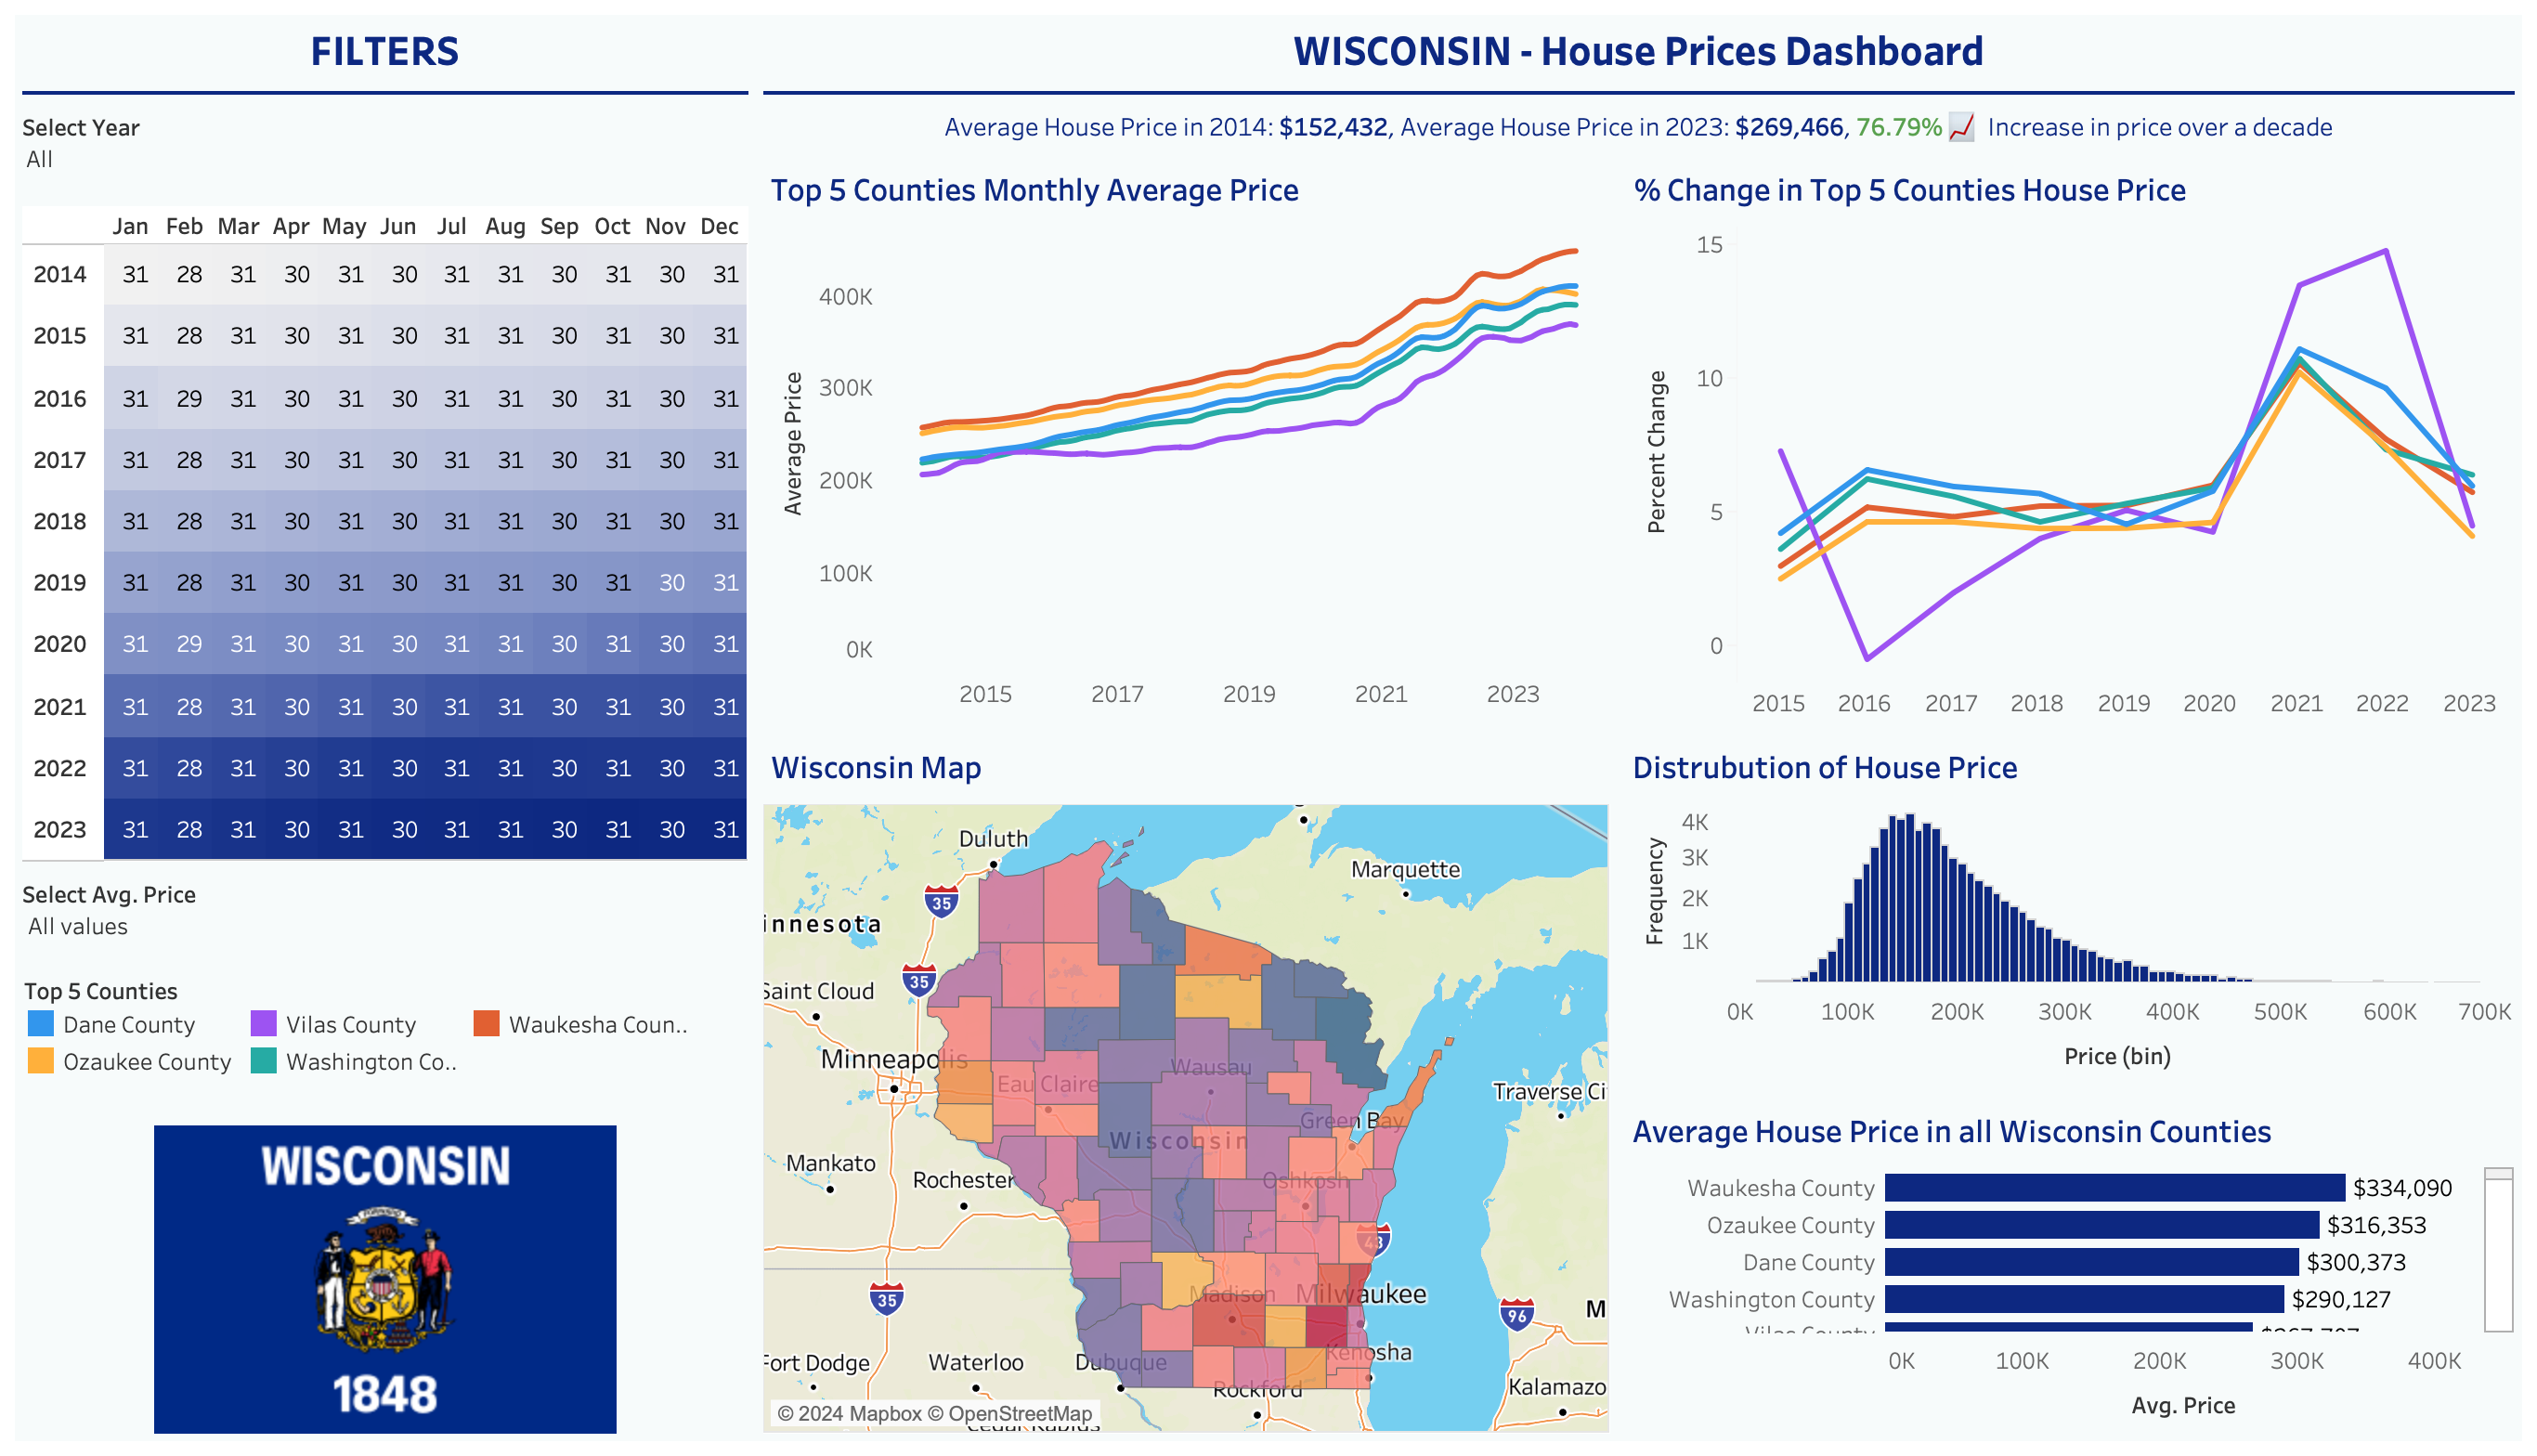

The dashboard page shown, as its layout file describes it:
{"tool":"tableau","page":{"name":"Wisconsin Housing Price - Dashboard","canvas":[1000,1000],"units":"permille","ordinal":0},"visuals":[{"type":"text","box":[5.9,10.2,292.4,47.2]},{"type":"text","box":[298.3,10.2,695.8,47.2]},{"type":"blank","box":[5.9,57.4,292.4,12.8]},{"type":"blank","box":[298.3,57.4,695.8,12.8]},{"type":"filter","title":"Calendar","param":"[federated.1ghd5i81e9hpkp1epg8eg1q6alfx].[yr:Date:ok]","box":[5.9,70.1,292.4,66.3]},{"type":"text","box":[298.3,70.1,695.8,33.2]},{"type":"worksheet","title":"Line-Price","mark":"Line","rows":["Price"],"cols":["Date"],"box":[298.3,103.3,339.7,396.6]},{"type":"worksheet","title":"Line-%Change","mark":"Automatic","rows":["Calculation_1178817261226889216"],"cols":["Date"],"box":[638.1,103.3,356.1,396.6]},{"type":"worksheet","title":"Calendar","mark":"Square","rows":["Date"],"cols":["Date"],"box":[5.9,136.5,292.4,460.5]},{"type":"worksheet","title":"GeoSpatial","mark":"Automatic","box":[298.3,499.9,339.7,489.9]},{"type":"worksheet","title":"Histogram-Price","mark":"Automatic","rows":["Price"],"cols":["Price (bin)"],"box":[638,499.9,356.2,249.7]},{"type":"filter","title":"Calendar","param":"[federated.1ghd5i81e9hpkp1epg8eg1q6alfx].[avg:Price:qk]","box":[5.9,596.9,292.4,65]},{"type":"legend","title":"Line-Price","param":"[federated.1ghd5i81e9hpkp1epg8eg1q6alfx].[none:CountyName:nk]","box":[5.9,662,292.4,105.9]},{"type":"worksheet","title":"Bar-Chart","mark":"Automatic","rows":["CountyName"],"cols":["Price"],"box":[638,749.6,356.2,240.2]},{"type":"image","param":"Image/wisconsin-flag.svg","box":[5.9,767.8,292.4,222]}]}

Visuals, with their boxes on the dashboard's canvas, which has no fixed pixel size, in thousandths of its width and height (x1, y1, x2, y2). These are canvas units, not pixel positions in the 2537x1456 screenshot, which may show the page scaled, cropped or inside an application window:
text: bbox(6, 10, 298, 57)
text: bbox(298, 10, 994, 57)
blank: bbox(6, 57, 298, 70)
blank: bbox(298, 57, 994, 70)
"Calendar" filter: bbox(6, 70, 298, 136)
text: bbox(298, 70, 994, 103)
"Line-Price" worksheet (Line marks): bbox(298, 103, 638, 500)
"Line-%Change" worksheet: bbox(638, 103, 994, 500)
"Calendar" worksheet (Square marks): bbox(6, 136, 298, 597)
"GeoSpatial" worksheet: bbox(298, 500, 638, 990)
"Histogram-Price" worksheet: bbox(638, 500, 994, 750)
"Calendar" filter: bbox(6, 597, 298, 662)
"Line-Price" legend: bbox(6, 662, 298, 768)
"Bar-Chart" worksheet: bbox(638, 750, 994, 990)
image: bbox(6, 768, 298, 990)
